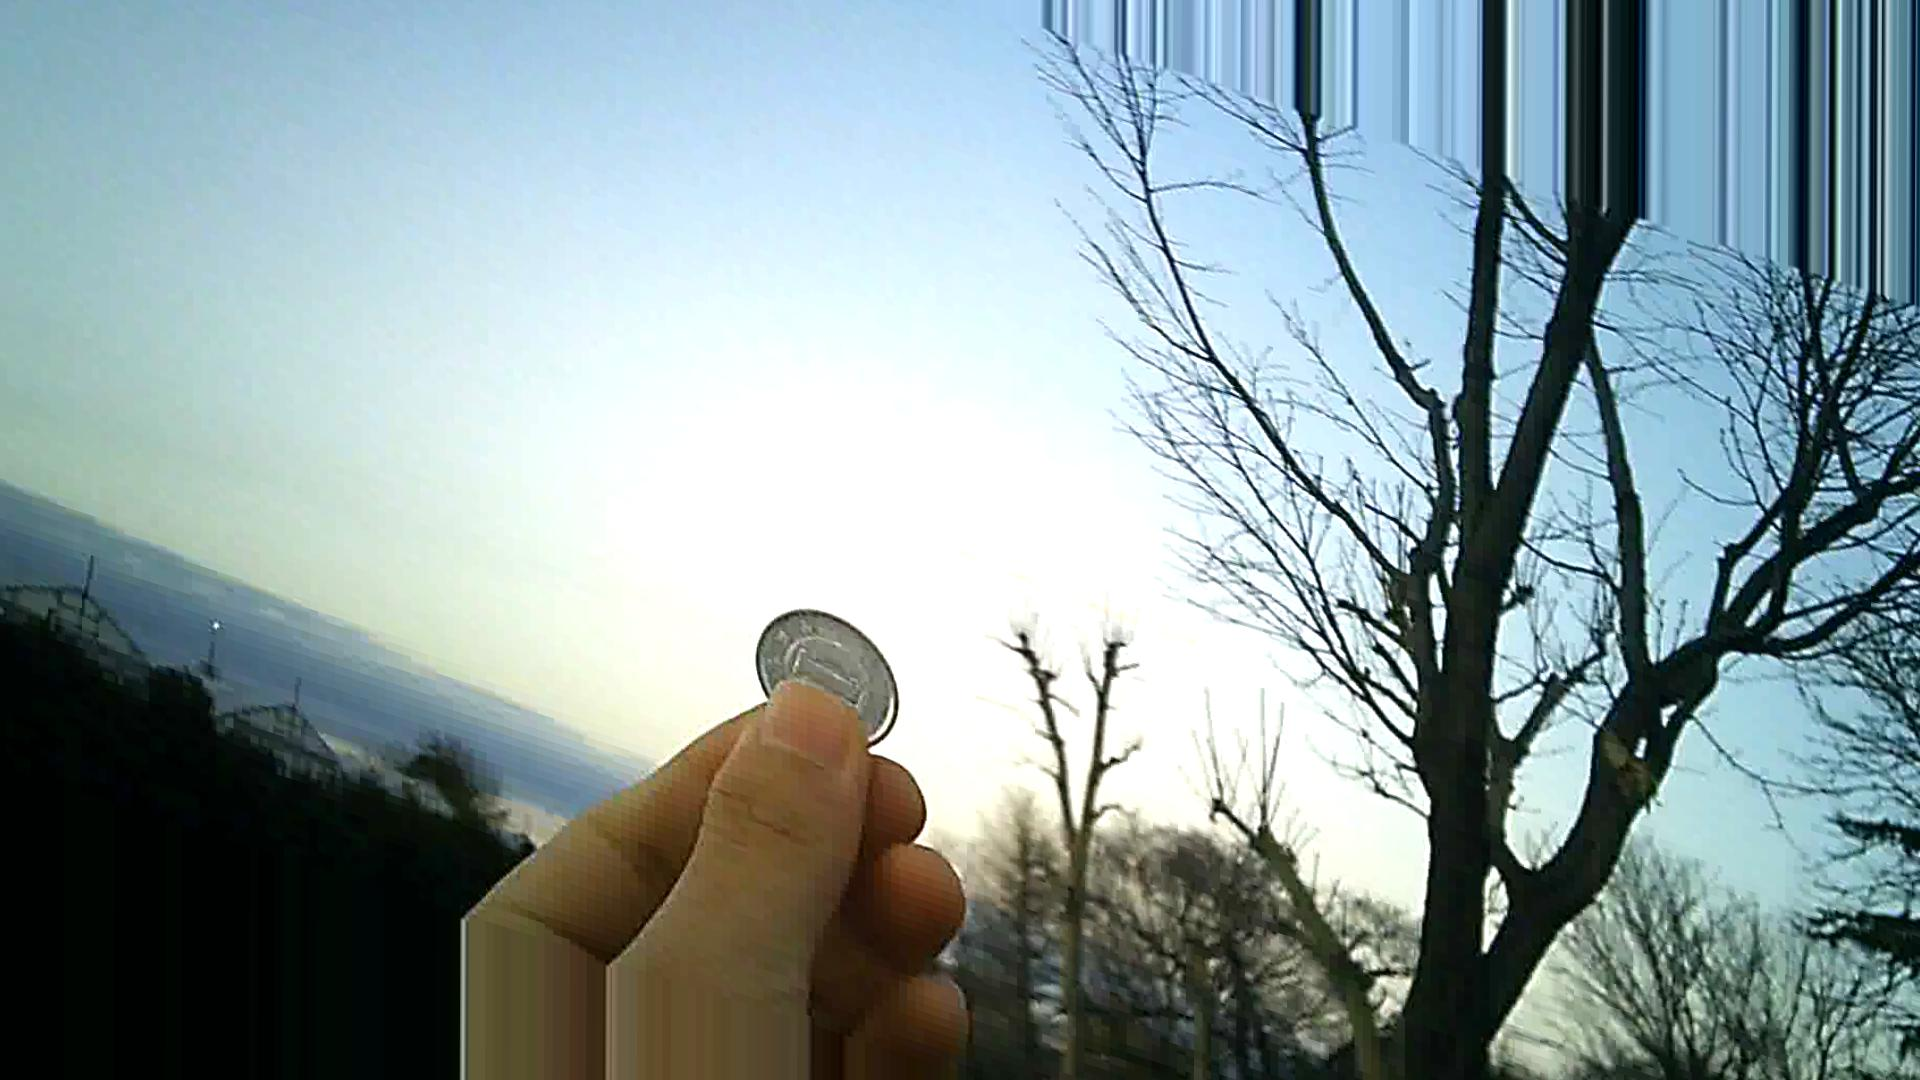1 Yen: (746, 607, 923, 762)
